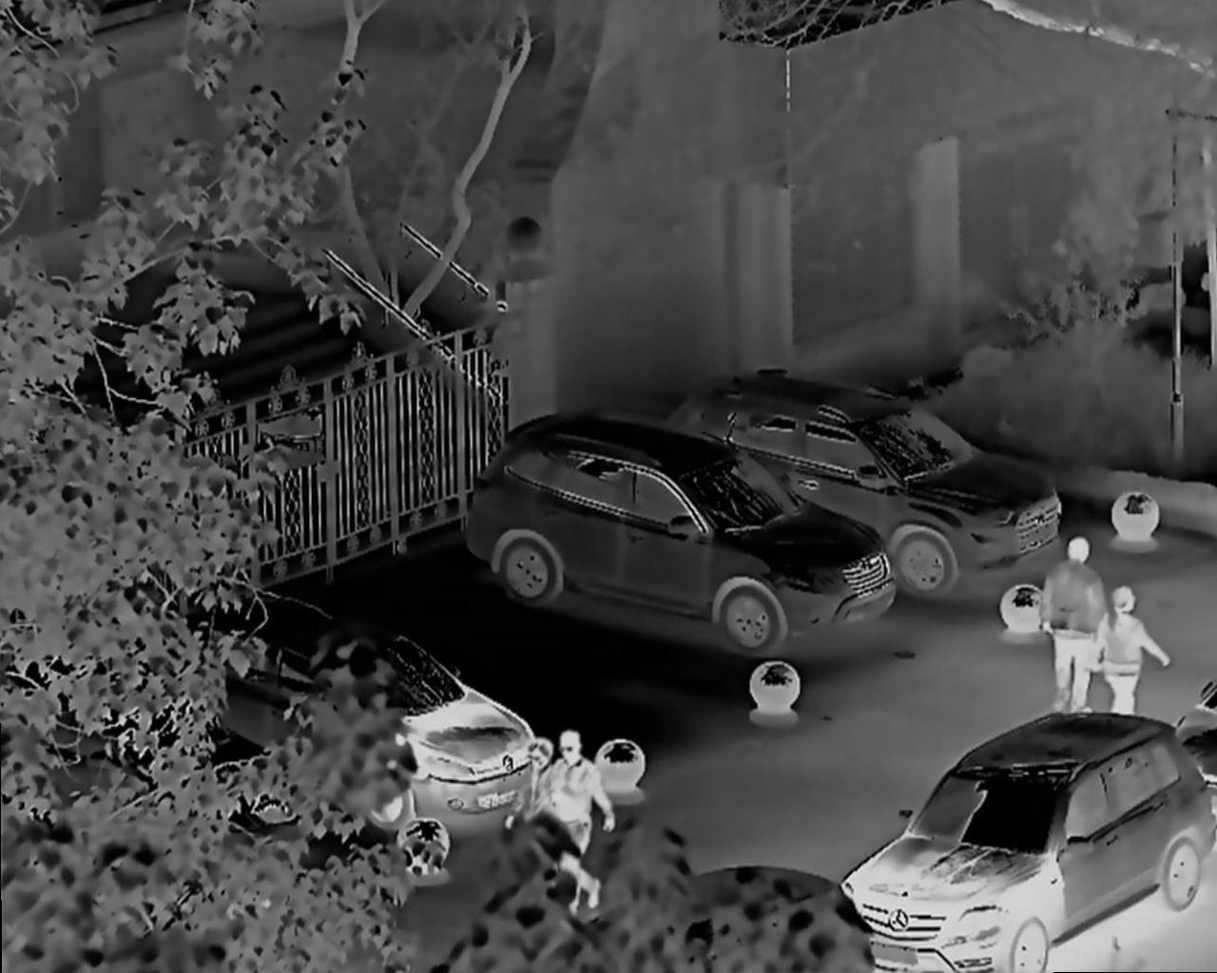person: (1037, 524, 1095, 724), (1092, 588, 1159, 725), (549, 721, 609, 868)
